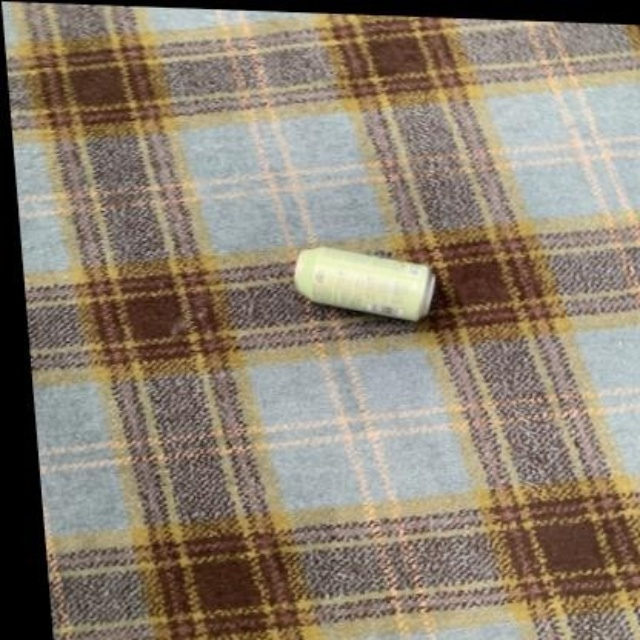trash: (294, 248, 434, 320)
